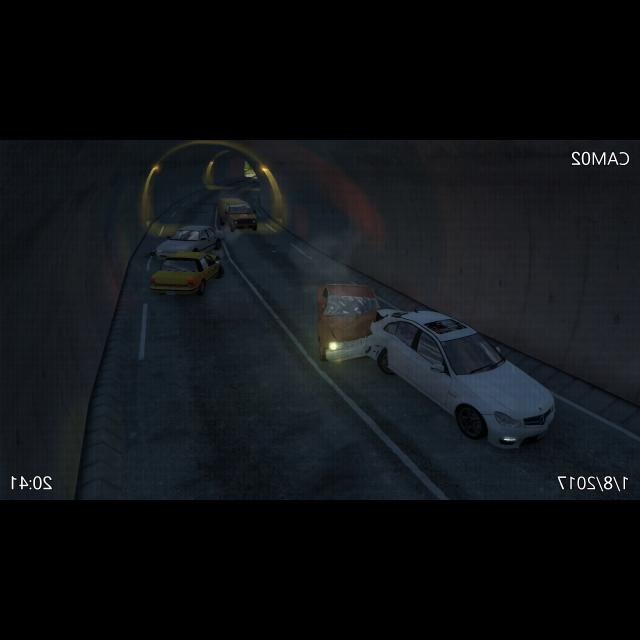accident: (304, 279, 560, 453), (149, 226, 222, 302)
